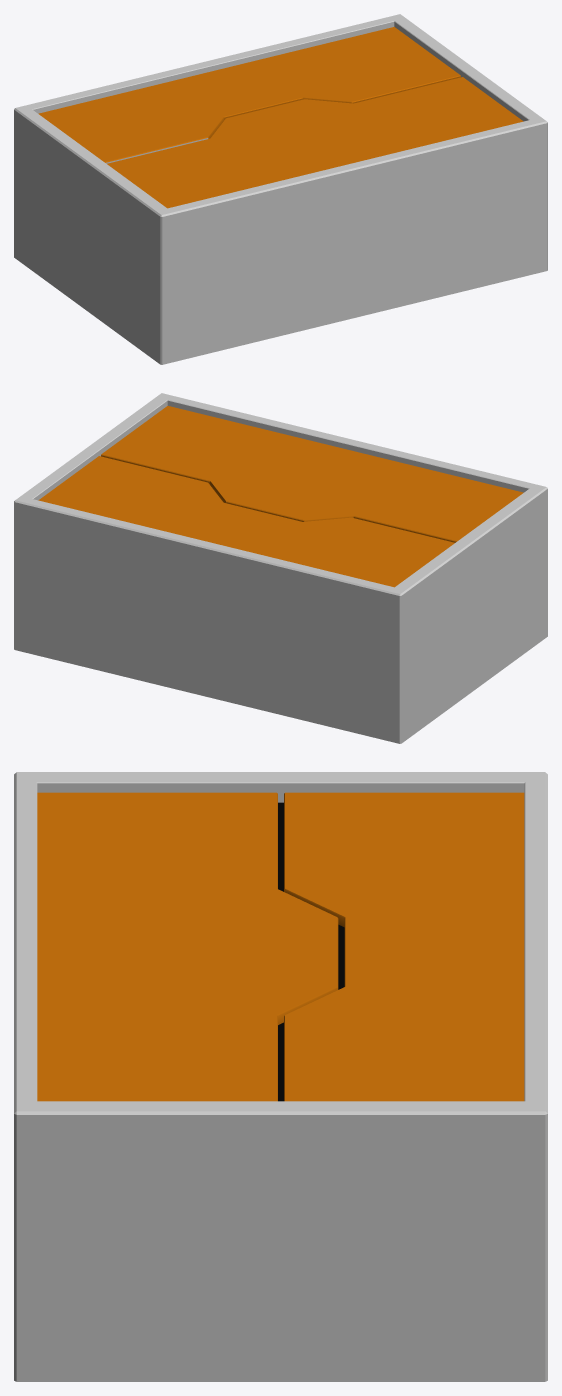
3 renders of one model, top to bottom at view 1: azimuth 30°, elevation 25°; view 2: azimuth 150°, elevation 25°; view 3: azimuth 270°, elevation 25°, orthographic. The views are drawn at different scales.
Visible parts, largest first — view 1: Box; view 2: Box; view 3: Box.
Boxes of the visible parts, x1,y1,x2,y2 form: Box: [14, 14, 547, 364]; Box: [14, 393, 547, 743]; Box: [14, 772, 547, 1381].
Bounding box in the file's own units: 1.7 × 1.13 × 0.6268.
